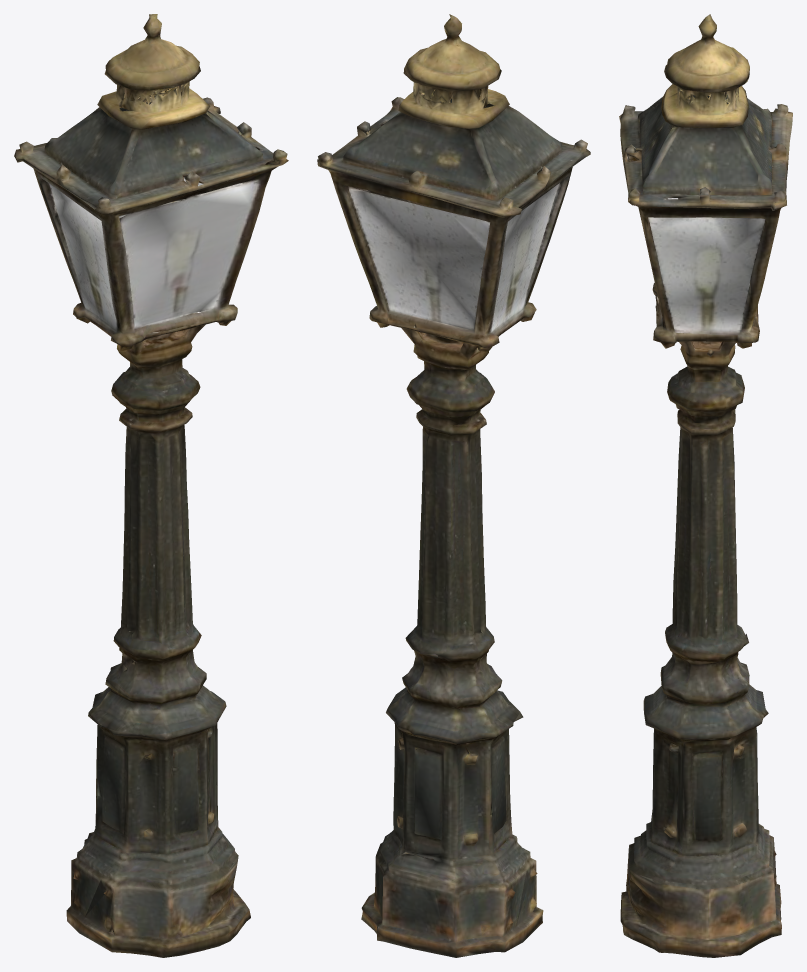
The picture shows the model from 3 angles, left to right: view 1: azimuth 30°, elevation 25°; view 2: azimuth 150°, elevation 25°; view 3: azimuth 270°, elevation 25°; orthographic projection.
Parts seen in each view (by area): view 1: Mindflower_V15_station_gas_lamp_baked; view 2: Mindflower_V15_station_gas_lamp_baked; view 3: Mindflower_V15_station_gas_lamp_baked.
Part boxes in pixels (left/top/right/bottom): Mindflower_V15_station_gas_lamp_baked: left=14, top=14, right=288, bottom=957; Mindflower_V15_station_gas_lamp_baked: left=317, top=14, right=590, bottom=957; Mindflower_V15_station_gas_lamp_baked: left=619, top=14, right=792, bottom=957.
Size of the model in its own units: 0.2309 by 0.9837 by 0.1714.
Materials: 1 (1 with a texture image).
